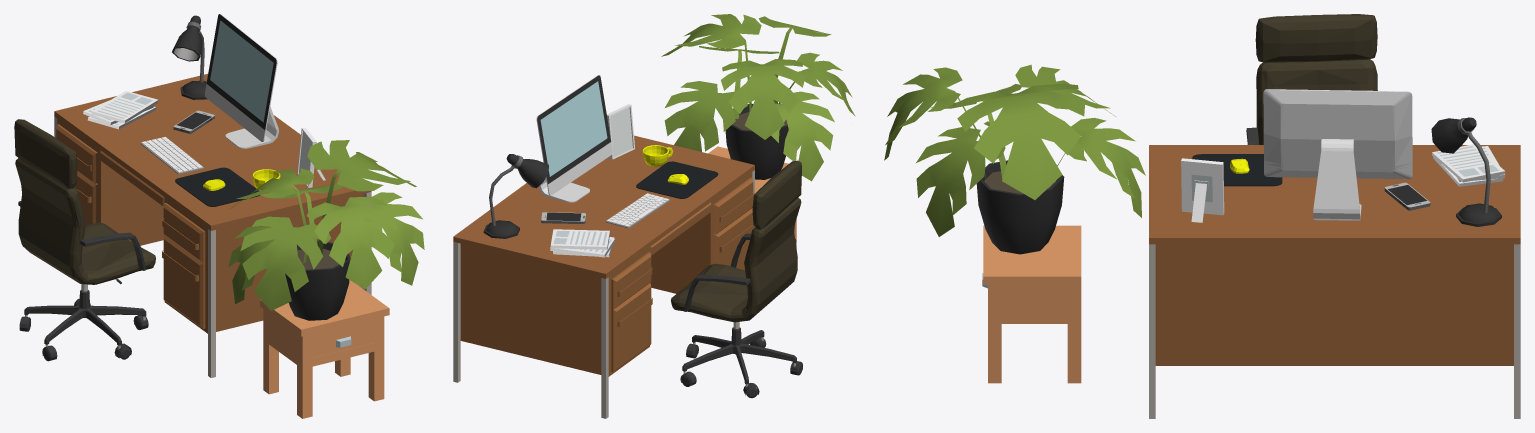
Rendered from desk.gltf.
The picture shows the model from 3 angles, left to right: view 1: azimuth 30°, elevation 25°; view 2: azimuth 150°, elevation 25°; view 3: azimuth 270°, elevation 25°; orthographic projection. The views are drawn at different scales.
Parts seen in each view (by area): view 1: Node.003, Houseplant-bfLOqIV5uP, Chair.003, Cabinet Bed Drawer Tabl, Monitor.001|iMac|Dupli|, Mousepad, Paper, Light Desk.001, Blank Picture Frame|Node.007|Dupli|, Phone; view 2: Node.003, Houseplant-bfLOqIV5uP, Chair.003, Monitor.001|iMac|Dupli|, Mousepad, Light Desk.001, Paper, Blank Picture Frame|Node.007|Dupli|, Cup.001|Cup|Dupli|, Phone, Cabinet Bed Drawer Tabl; view 3: Node.003, Houseplant-bfLOqIV5uP, Monitor.001|iMac|Dupli|, Cabinet Bed Drawer Tabl, Chair.003, Blank Picture Frame|Node.007|Dupli|, Light Desk.001, Paper, Mousepad, Phone.
Boxes of the visible parts, x1,y1,x2,y2 form: Node.003: [54, 74, 371, 377]; Houseplant-bfLOqIV5uP: [228, 140, 424, 320]; Chair.003: [14, 119, 155, 361]; Cabinet Bed Drawer Tabl: [260, 280, 389, 418]; Monitor.001|iMac|Dupli|: [204, 14, 278, 148]; Mousepad: [175, 167, 260, 206]; Paper: [83, 90, 158, 129]; Light Desk.001: [172, 15, 207, 99]; Blank Picture Frame|Node.007|Dupli|: [297, 128, 325, 187]; Phone: [173, 110, 214, 133]; Node.003: [453, 135, 754, 418]; Houseplant-bfLOqIV5uP: [661, 14, 855, 181]; Chair.003: [671, 160, 802, 398]; Monitor.001|iMac|Dupli|: [536, 75, 612, 202]; Mousepad: [636, 161, 718, 198]; Light Desk.001: [483, 154, 548, 238]; Paper: [550, 229, 615, 257]; Blank Picture Frame|Node.007|Dupli|: [607, 104, 634, 159]; Cup.001|Cup|Dupli|: [642, 145, 673, 166]; Phone: [541, 212, 585, 223]; Cabinet Bed Drawer Tabl: [708, 146, 796, 247]; Node.003: [1149, 145, 1520, 418]; Houseplant-bfLOqIV5uP: [884, 64, 1145, 254]; Monitor.001|iMac|Dupli|: [1263, 89, 1412, 220]; Cabinet Bed Drawer Tabl: [982, 225, 1081, 383]; Chair.003: [1246, 14, 1377, 144]; Blank Picture Frame|Node.007|Dupli|: [1181, 158, 1224, 222]; Light Desk.001: [1431, 117, 1501, 226]; Paper: [1432, 144, 1505, 186]; Mousepad: [1192, 154, 1282, 186]; Phone: [1384, 182, 1430, 210].
Size of the model in its own units: 1.71 by 1.56 by 2.97.
32 materials, 3 textured.
